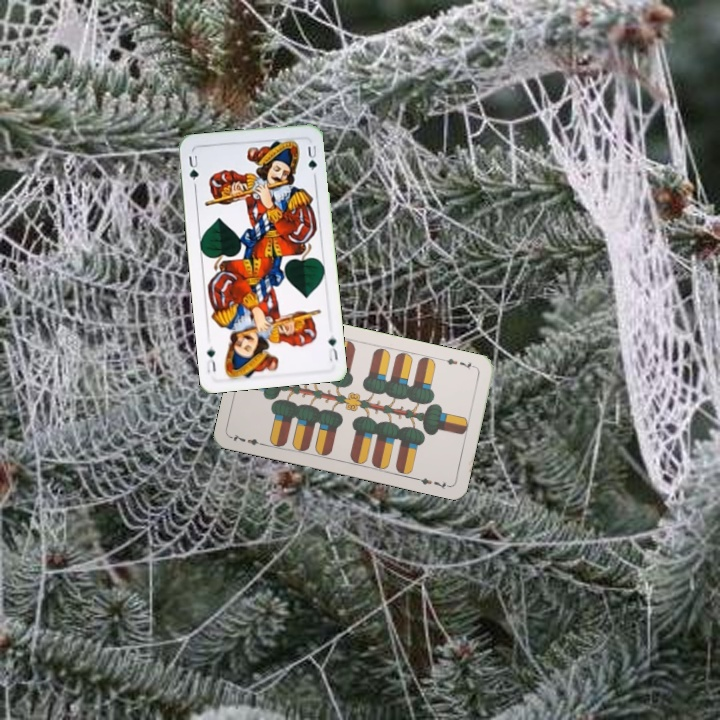E7: (438, 354, 478, 372), (228, 430, 268, 448)
GU: (184, 151, 201, 183), (324, 331, 340, 363)
